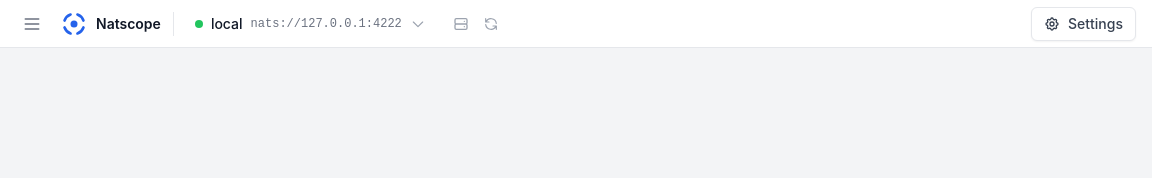
Test: CompactHeader › announces its connection menu and closes it on Escape
This screenshot has width=1152, height=178.
Click the button "local nats://127.0.0.1:4222": coordinates (310, 24) left=186, top=6, right=435, bottom=40
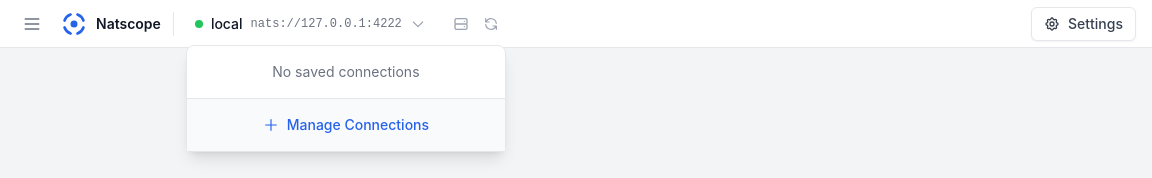
Press Escape
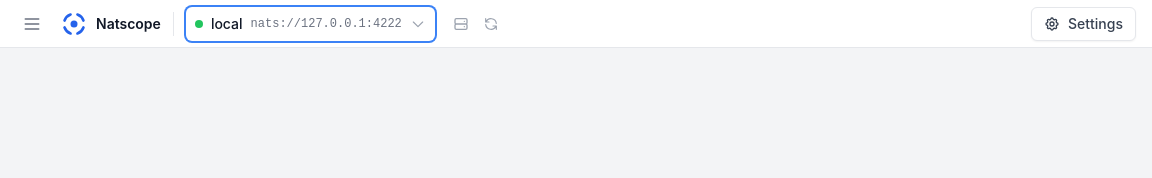
expect the button "Manage Connections" is gone: met
